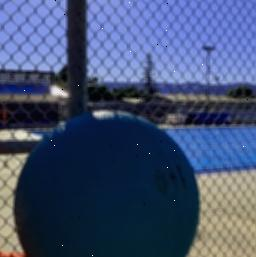algae: (9, 109, 200, 257)
